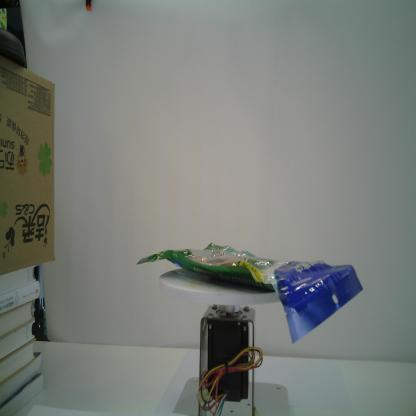Dried Food: (135, 241, 365, 346)
